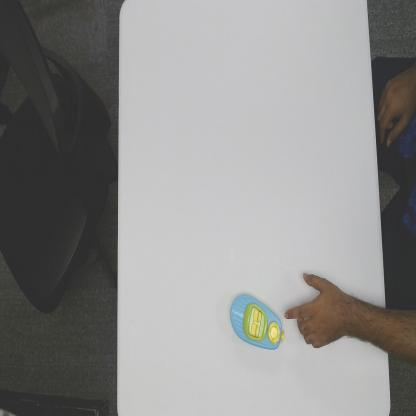Arm: (347, 294, 388, 352)
Boat: (230, 291, 286, 355)
Hand: (283, 269, 347, 349)
